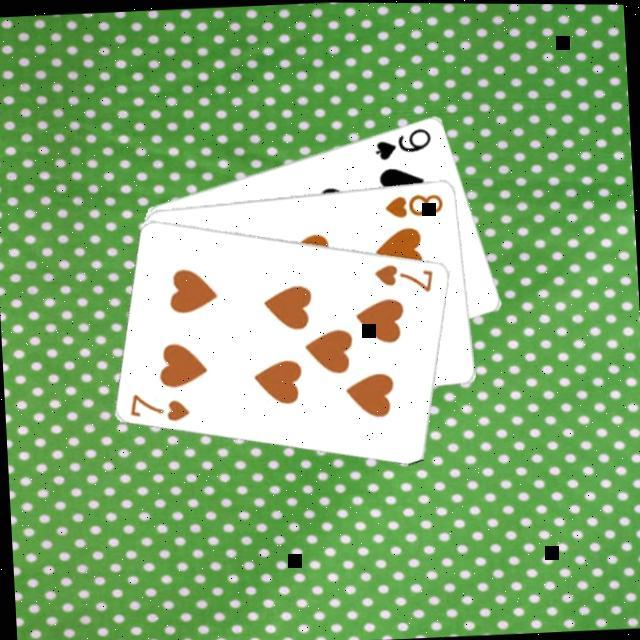7H: (369, 256, 435, 294), (125, 385, 191, 423)
8H: (380, 186, 445, 219)
9S: (369, 121, 434, 160)
